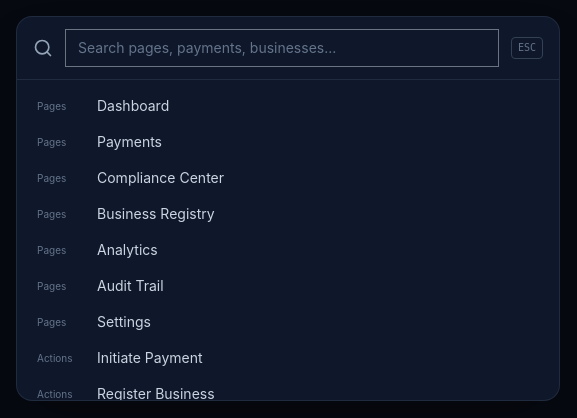
Test: SearchOverlay › shows no results message
In the field with placeholder "Search pages, payments, businesses...": (282, 48) left=65, top=29, right=499, bottom=67, type "zzzzzznonexistent"
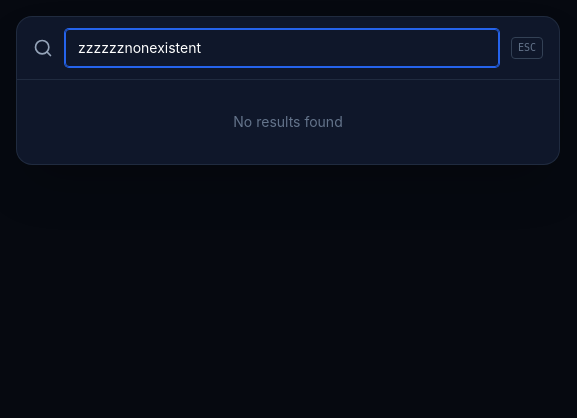
Check: the text "No results found" is shown, box left=233, top=113, right=343, bottom=130
